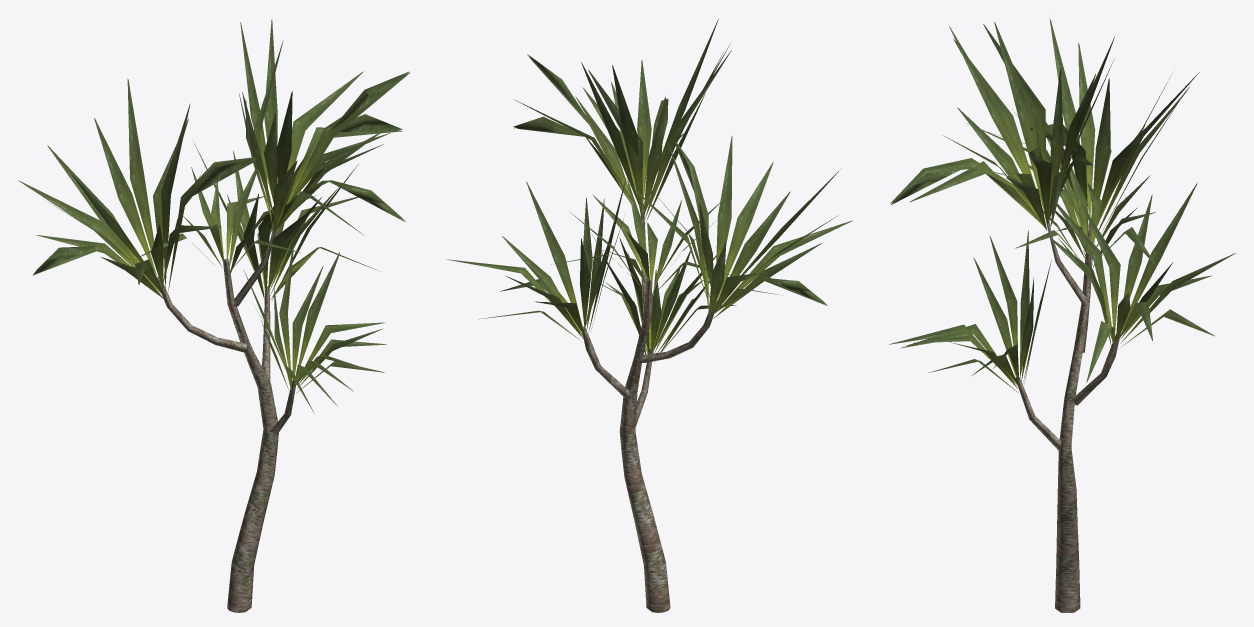
Rendered from Sea_Islands_Yucca_Model_0.obj.
3 views of the same model, side by side, from view 1: azimuth 30°, elevation 25°; view 2: azimuth 150°, elevation 25°; view 3: azimuth 270°, elevation 25° (orthographic). The views are drawn at different scales.
Parts seen in each view (by area): view 1: Foliage, Bark; view 2: Foliage, Bark; view 3: Foliage, Bark.
Boxes of the visible parts, bbox=[...] form: Foliage: bbox=[18, 19, 410, 413]; Bark: bbox=[156, 224, 295, 612]; Foliage: bbox=[447, 19, 852, 362]; Bark: bbox=[582, 203, 717, 612]; Foliage: bbox=[889, 19, 1235, 392]; Bark: bbox=[1015, 210, 1120, 612].
Bounding box in the file's own units: 1.72 × 2.5 × 1.36.
Materials: 2 (2 with a texture image).
